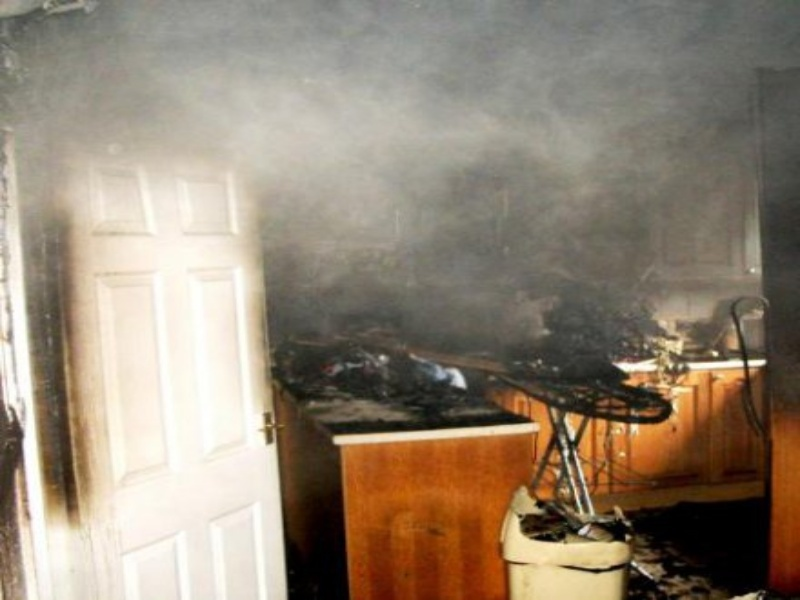smoke: (243, 1, 767, 310)
